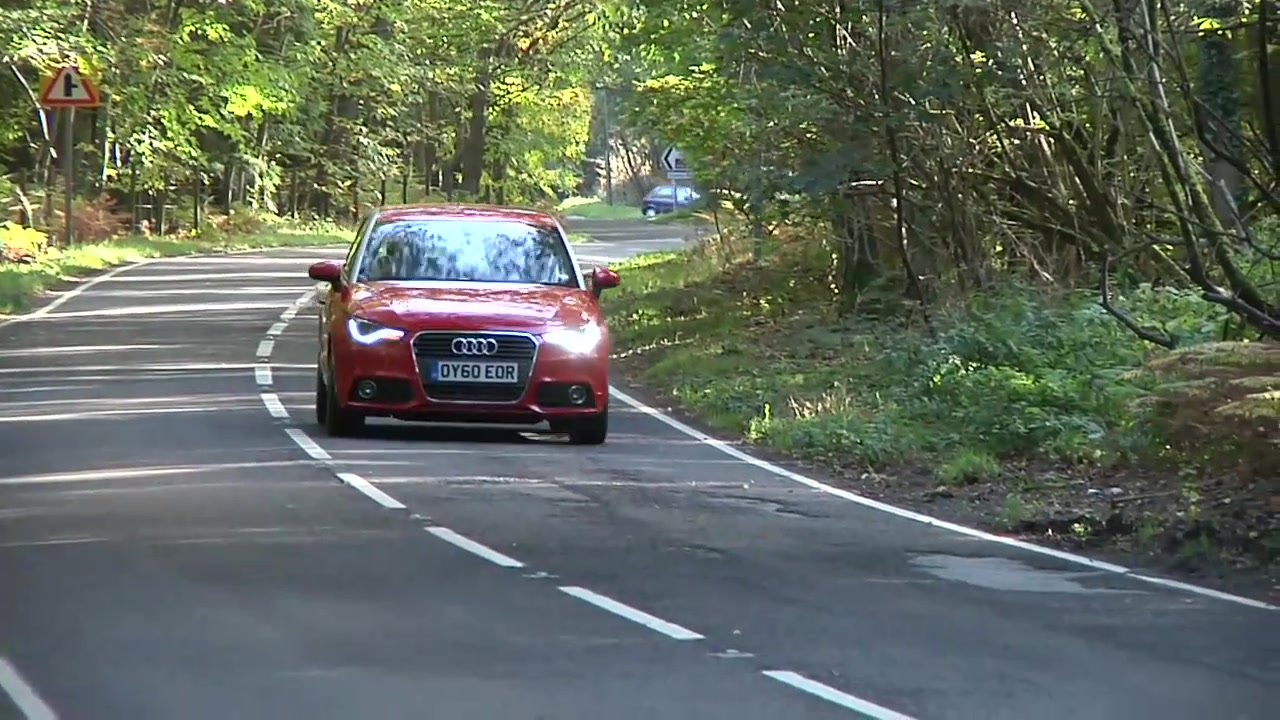car: (308, 198, 622, 447)
